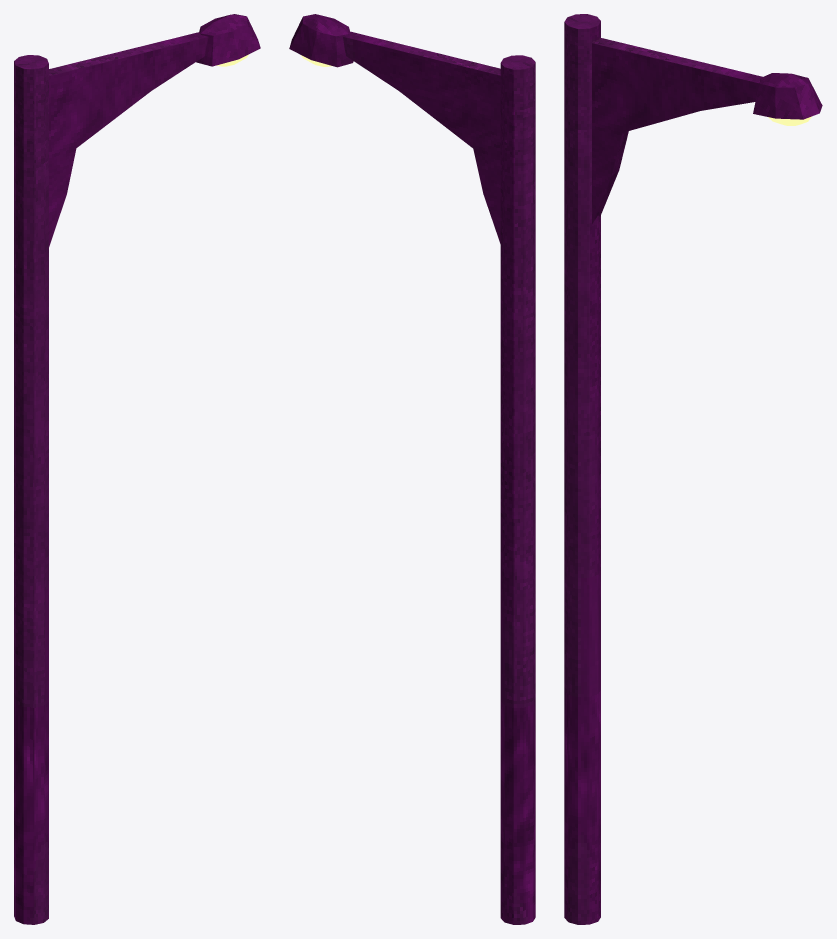
The model's file is lampost.glb.
3 renders of one model, left to right at view 1: azimuth 30°, elevation 25°; view 2: azimuth 150°, elevation 25°; view 3: azimuth 330°, elevation 25°, orthographic. The views are drawn at different scales.
Visible parts, largest first — view 1: Cylinder; view 2: Cylinder; view 3: Cylinder.
Boxes of the visible parts, x1=… form: Cylinder: x1=14, y1=14, x2=260, y2=924; Cylinder: x1=289, y1=14, x2=535, y2=924; Cylinder: x1=564, y1=14, x2=822, y2=924.
Bounding box in the file's own units: 6.08 × 20.56 × 1.02.
2 materials, 1 textured.
